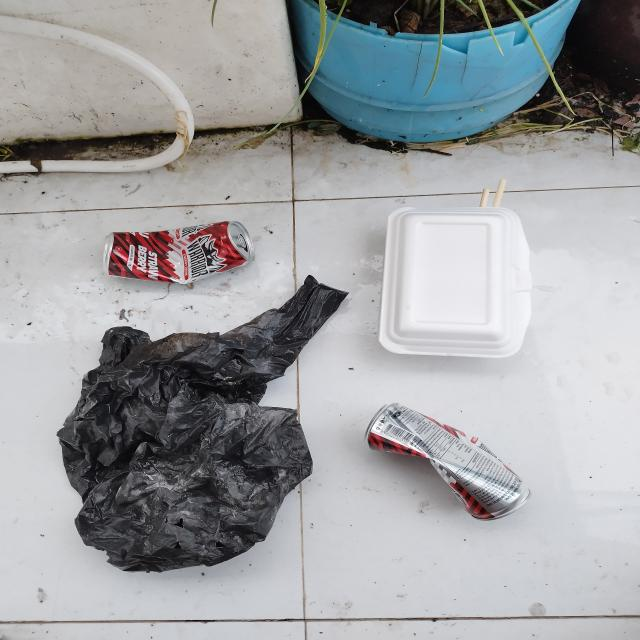bag: (53, 274, 349, 575)
can: (365, 401, 531, 522), (102, 220, 256, 288)
foam box: (379, 206, 532, 359)
